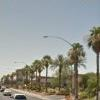Palm tree: (33, 50, 71, 90)
